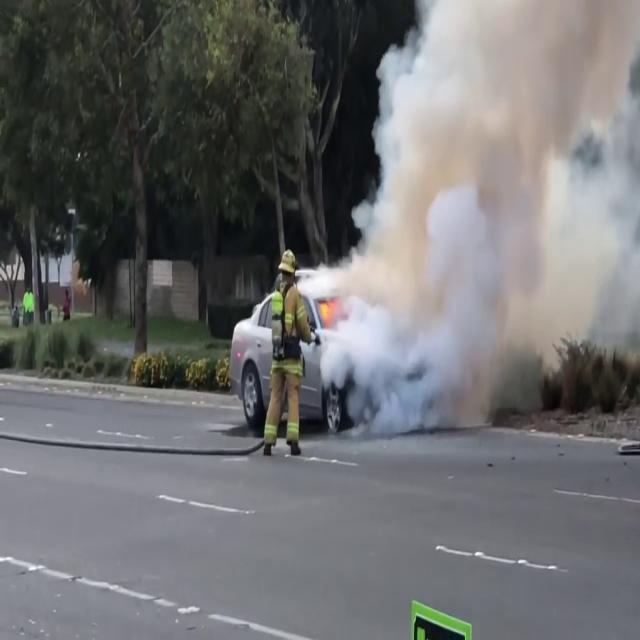Smoke: (321, 0, 640, 446)
